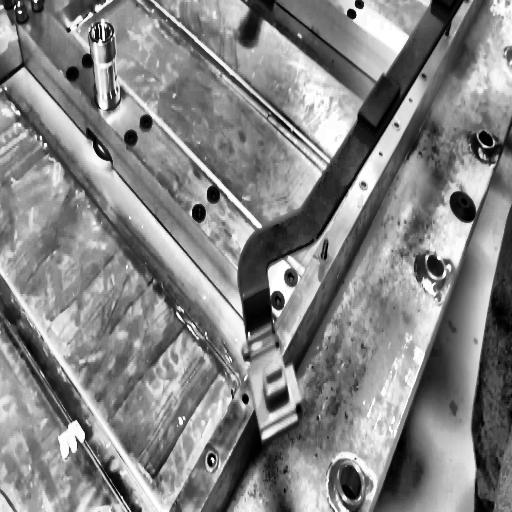busbar: (236, 1, 465, 448)
